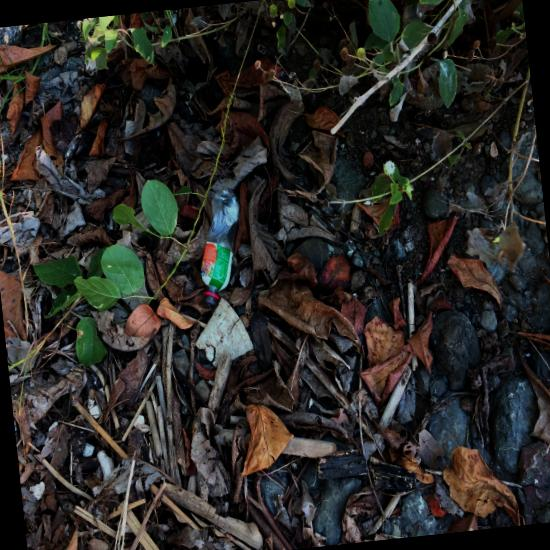Clear plastic bottle: (201, 190, 240, 307)
Styrofoam piece: (195, 297, 254, 367), (29, 481, 45, 500), (82, 442, 95, 457), (48, 421, 58, 431)
